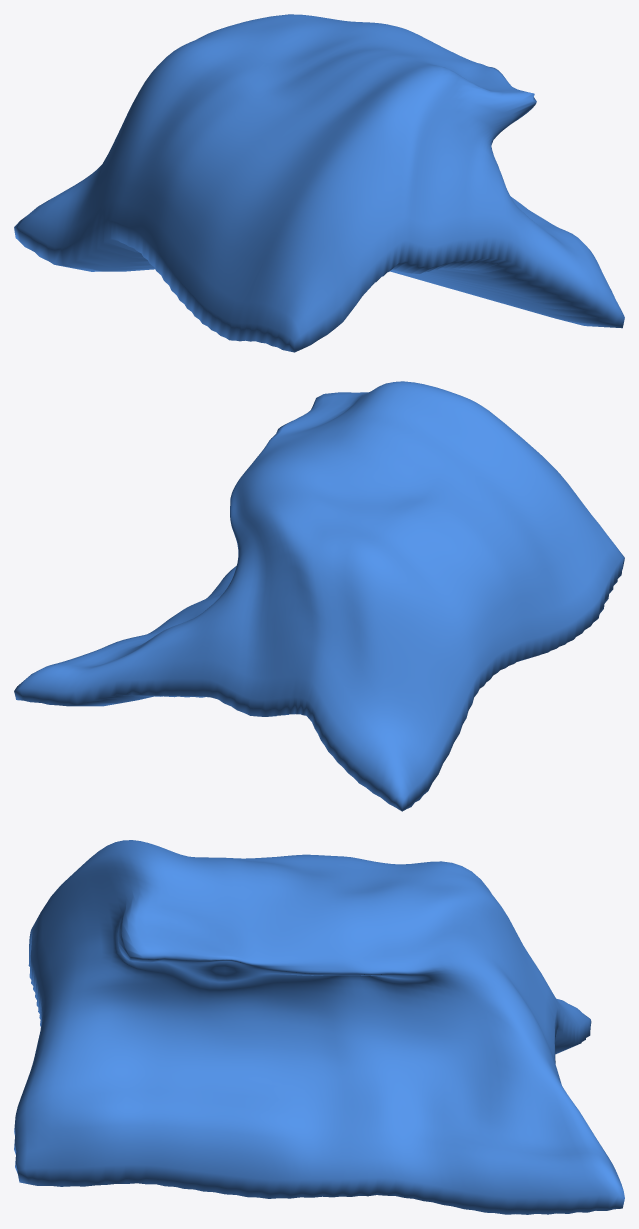
The model's file is Wave.fbx.
The picture shows the model from 3 angles, top to bottom: view 1: azimuth 30°, elevation 25°; view 2: azimuth 150°, elevation 25°; view 3: azimuth 270°, elevation 25°; orthographic projection. The views are drawn at different scales.
Parts seen in each view (by area): view 1: Cube; view 2: Cube; view 3: Cube.
Boxes of the visible parts, x1,y1,x2,y2 form: Cube: [14, 14, 624, 352]; Cube: [14, 381, 624, 811]; Cube: [14, 840, 624, 1214].
Size of the model in its own units: 301 by 192 by 364.
